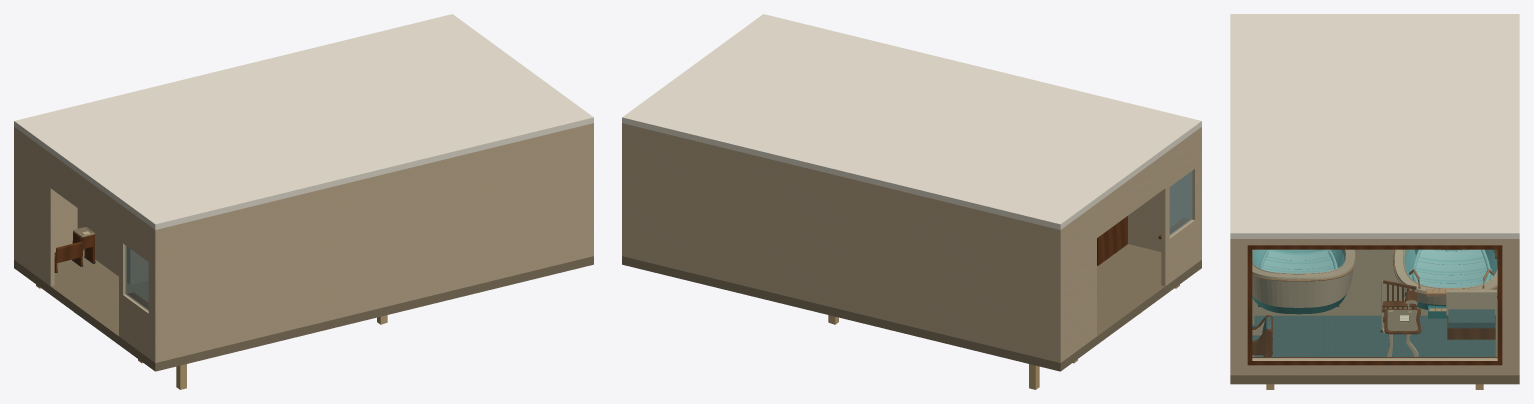
Rendered from NG548_WarmInterior_r001.glb.
The picture shows the model from 3 angles, left to right: view 1: azimuth 30°, elevation 25°; view 2: azimuth 150°, elevation 25°; view 3: azimuth 270°, elevation 25°; orthographic projection. The views are drawn at different scales.
Parts seen in each view (by area): view 1: NG548_RuntimeBatch_001, NG548_RoomFloor, NG548_ScreenedStreetGlass, NG548_RuntimeBatch_013; view 2: NG548_RuntimeBatch_001, NG548_RoomFloor, NG548_ScreenedStreetGlass, NG548_RuntimeBatch_002; view 3: NG548_RuntimeBatch_001, NGP_548_PrivateViewPane, NGW_548_OutlookFloorInlay, NG548_RoomFloor, NG548_ReservedRestSupport_02__Hollow continuous basin shell , NG548_ReservedRestSupport_01__WaterSurface_VisualOnly, NG548_ReservedRestSupport_01__Contoured broad immersed rest , NG548_ReservedRestSupport_02__WaterSurface_VisualOnly, NG548_ReservedRestSupport_01__Hollow continuous basin shell , NGP_548_Frame_Sill, NG548_ReservedRestSupport_02__Contoured broad immersed rest , NGP_548_Frame_Head (+10 smaller).
Boxes of the visible parts, x1,y1,x2,y2 form: NG548_RuntimeBatch_001: (14, 14, 593, 362); NG548_RoomFloor: (14, 250, 593, 371); NG548_ScreenedStreetGlass: (125, 245, 148, 310); NG548_RuntimeBatch_013: (54, 231, 95, 271); NG548_RuntimeBatch_001: (622, 14, 1201, 362); NG548_RoomFloor: (622, 244, 1201, 371); NG548_ScreenedStreetGlass: (1169, 171, 1192, 235); NG548_RuntimeBatch_002: (1097, 216, 1190, 265); NG548_RuntimeBatch_001: (1230, 14, 1519, 375); NGP_548_PrivateViewPane: (1252, 250, 1497, 358); NGW_548_OutlookFloorInlay: (1254, 315, 1495, 356); NG548_RoomFloor: (1230, 249, 1519, 384); NG548_ReservedRestSupport_02__Hollow continuous basin shell : (1252, 249, 1355, 314); NG548_ReservedRestSupport_01__WaterSurface_VisualOnly: (1406, 250, 1496, 287); NG548_ReservedRestSupport_01__Contoured broad immersed rest : (1412, 249, 1490, 287); NG548_ReservedRestSupport_02__WaterSurface_VisualOnly: (1253, 250, 1343, 272); NG548_ReservedRestSupport_01__Hollow continuous basin shell : (1394, 249, 1497, 309); NGP_548_Frame_Sill: (1247, 357, 1502, 365); NG548_ReservedRestSupport_02__Contoured broad immersed rest : (1263, 249, 1334, 273); NGP_548_Frame_Head: (1247, 245, 1502, 249).
Bounding box in the file's own units: 12.9 × 5.31 × 7.2.
51 materials, 20 textured.
